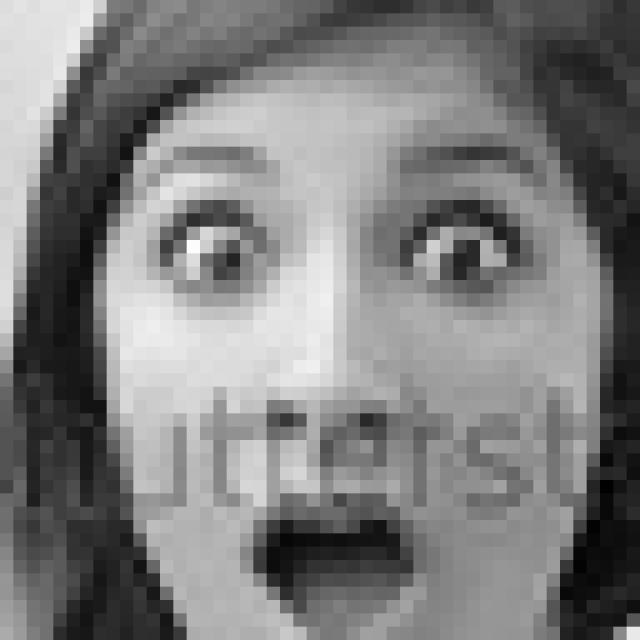surprise: (130, 126, 560, 640)
